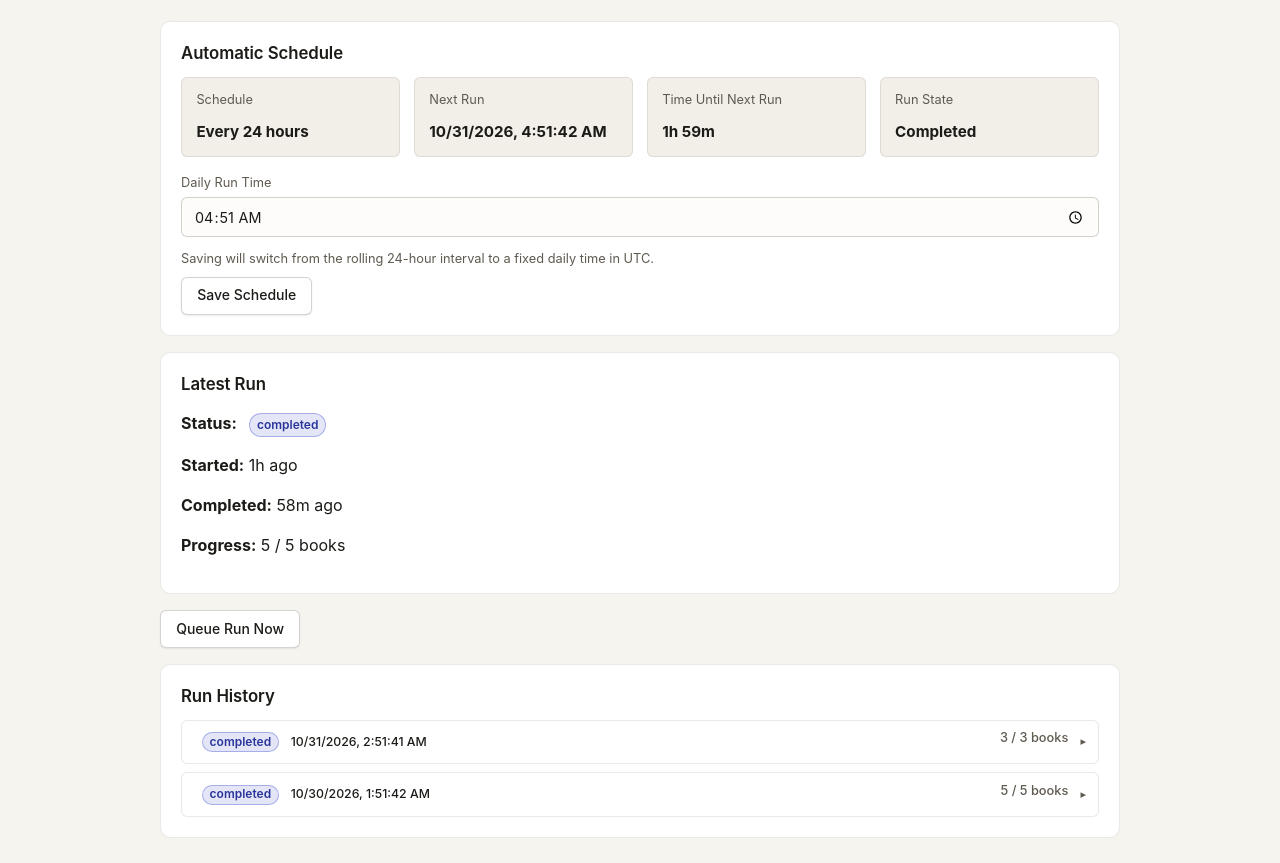
SchedulerStatus › expands a run to show per-book log entries
Expected: the text "3 / 3 books" is shown, [1000,730,1068,746]
Note: Click the first history row to expand it
Click the 1st icon "▸": x=1083, y=742 [1080,735,1086,749]
(page scrolled)
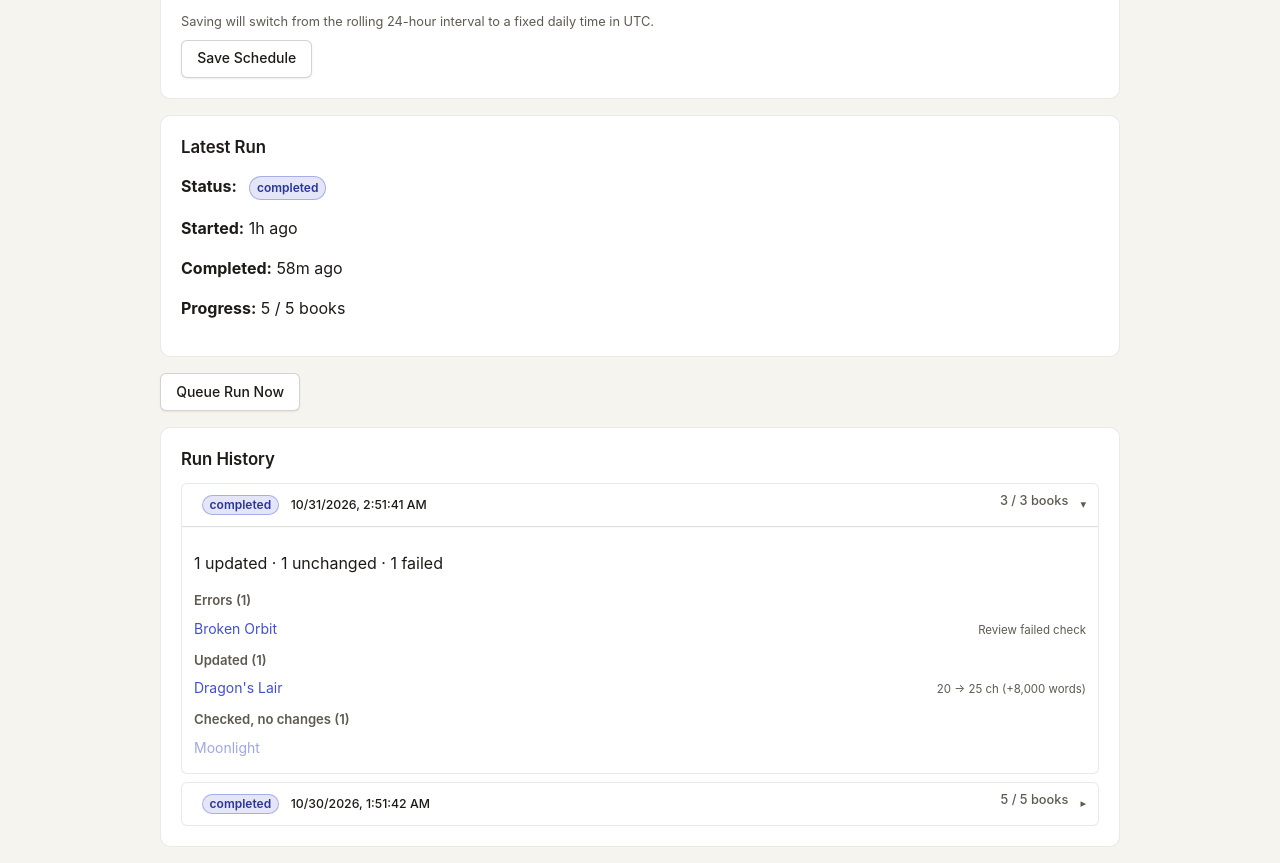
Expected: the link "Dragon's Lair" is shown, [194,679,282,696]
Expected: the link "Moonlight" is shown, [194,739,260,756]
Expected: the link "Broken Orbit" is shown, [194,620,277,637]
